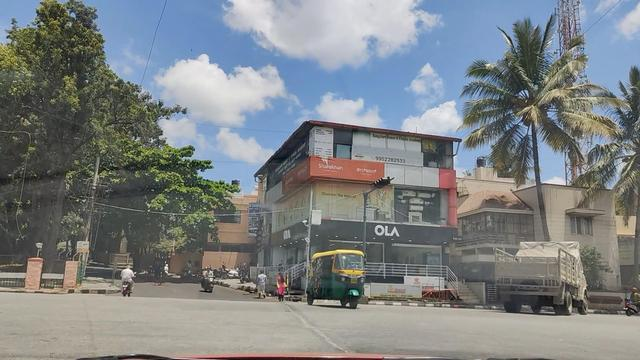HMV: (492, 238, 578, 306)
LMV: (307, 250, 364, 309)
RoadDamages: (283, 306, 347, 359)
